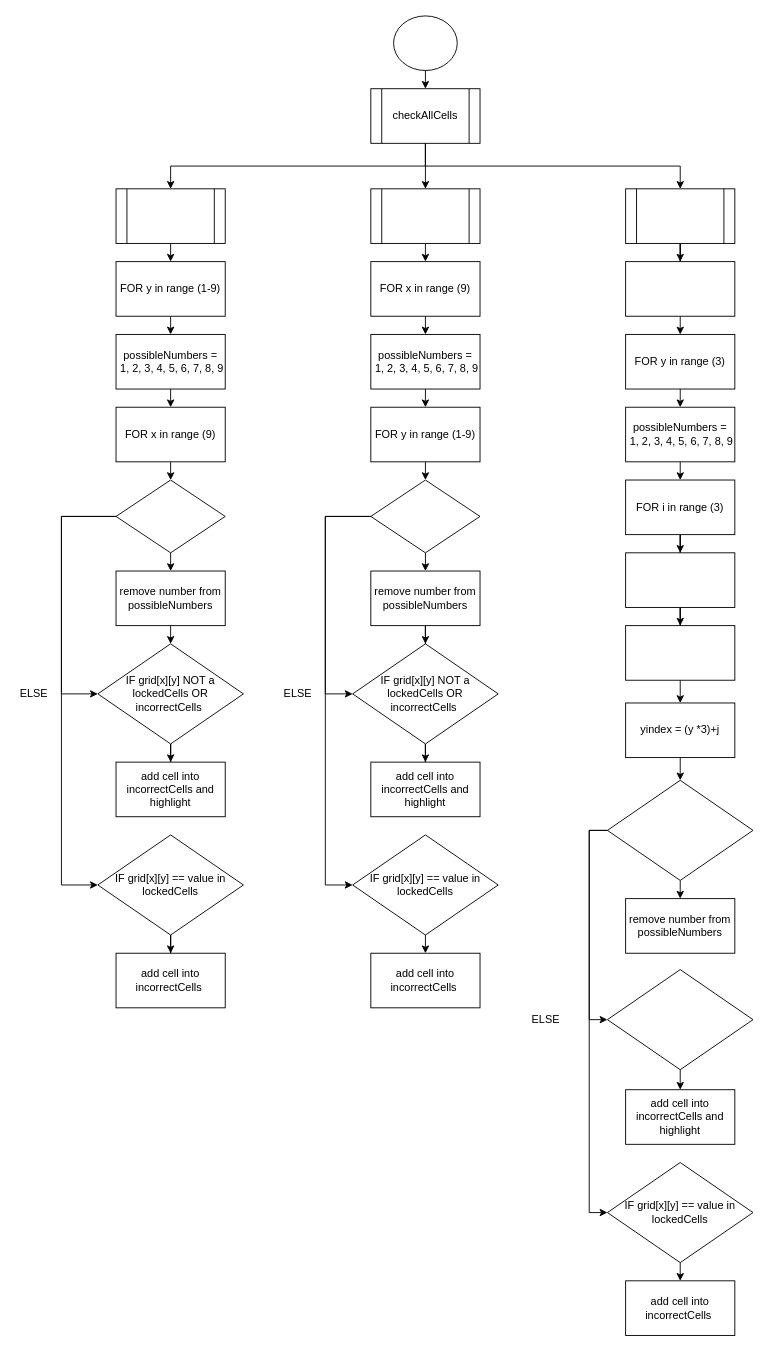
The diagram is 769 pixels wide and 1351 high, and some of its shapes have lost their labels. The centre of each missing label's shape, as x and y in pixels:
"checkColumns()" belongs at point 425,215.
"checkRows()" belongs at point 170,215.
"checkSubGrid()" belongs at point 680,215.
"FOR j in range (3)" belongs at point 680,579.
"FOR x in range (3)" belongs at point 680,288.
"IF grid[x][y] in possibleNumbers" belongs at point 170,516.
"IF grid[xindex][yindex] NOT a lockedCells OR incorrectCells" belongs at point 680,1019.
"IF grid[y][x] in possibleNumbers" belongs at point 425,516.
"IF grid[yindex][xindex] in possibleNumbers" belongs at point 680,829.
"Start" belongs at point 425,43.
"xindex = (x*3) + i" belongs at point 680,652.
